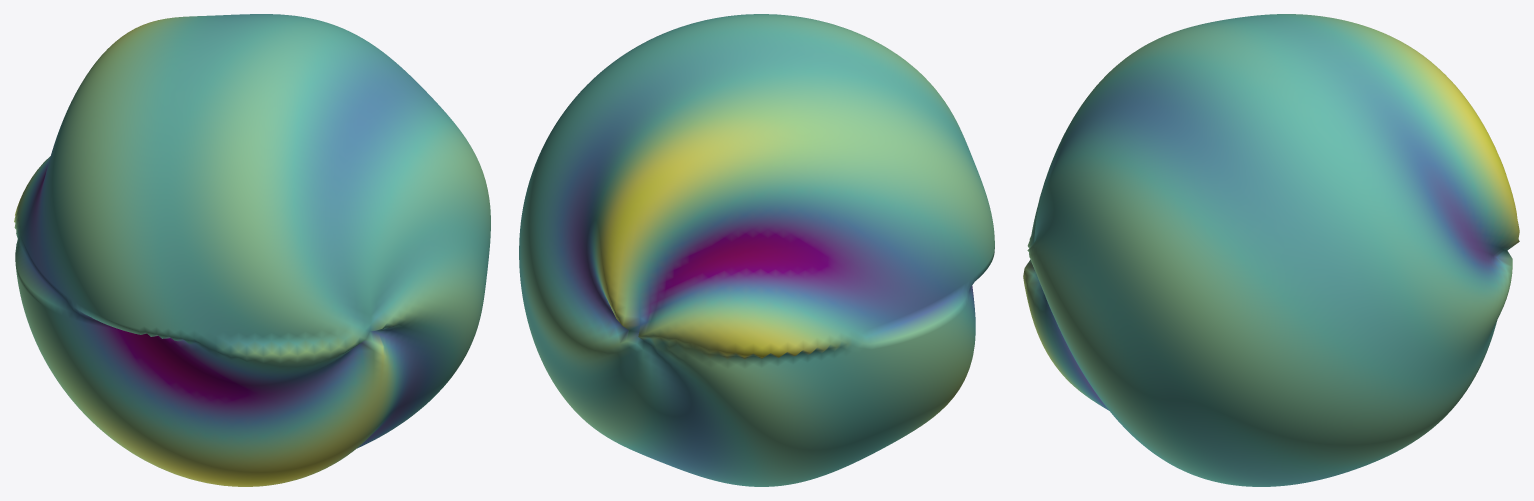
Rendered from sphere_frame_0012.glb.
3 views of the same model, side by side, from view 1: azimuth 30°, elevation 25°; view 2: azimuth 150°, elevation 25°; view 3: azimuth 270°, elevation 25° (orthographic).
Parts seen in each view (by area): view 1: world; view 2: world; view 3: world.
Part boxes in pixels (left/top/right/bottom): world: left=14, top=14, right=490, bottom=486; world: left=519, top=14, right=994, bottom=486; world: left=1023, top=14, right=1519, bottom=486.
Bounding box in the file's own units: 2.18 × 2.15 × 2.26.
